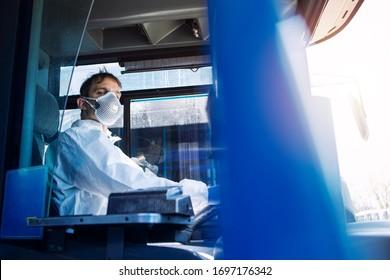gloves: (207, 185, 222, 204)
